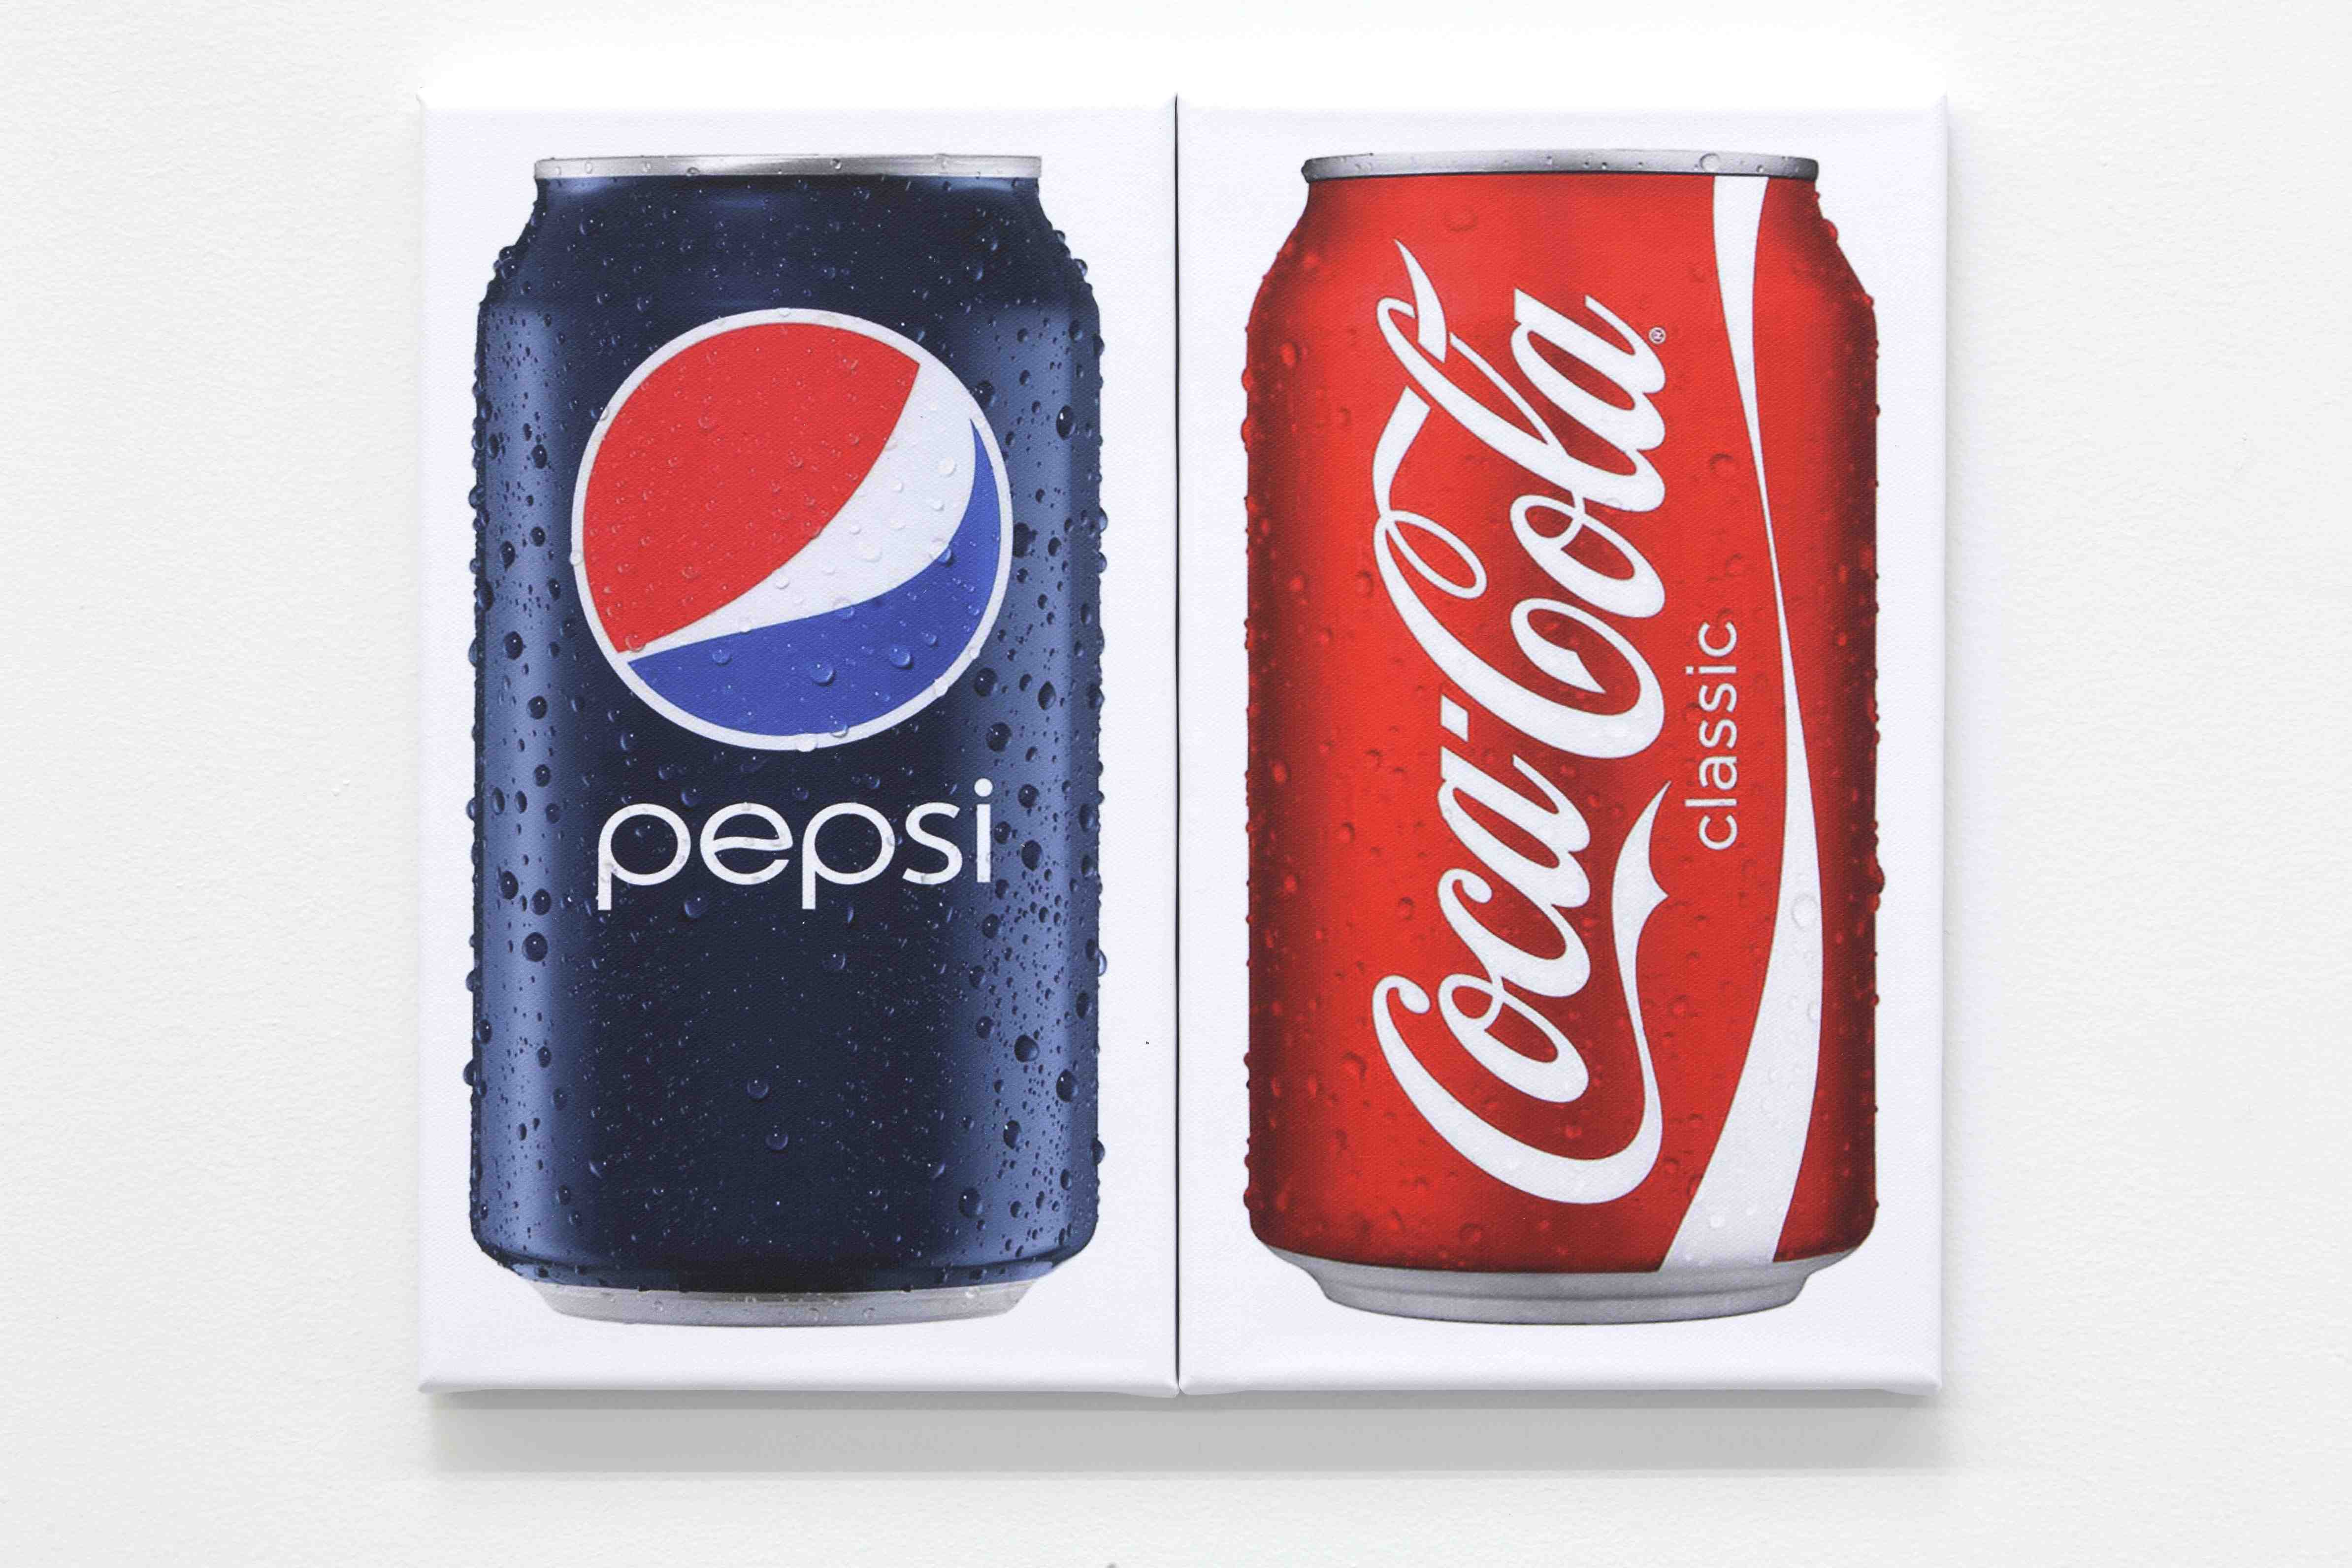pepsi: (572, 324, 1008, 747)
